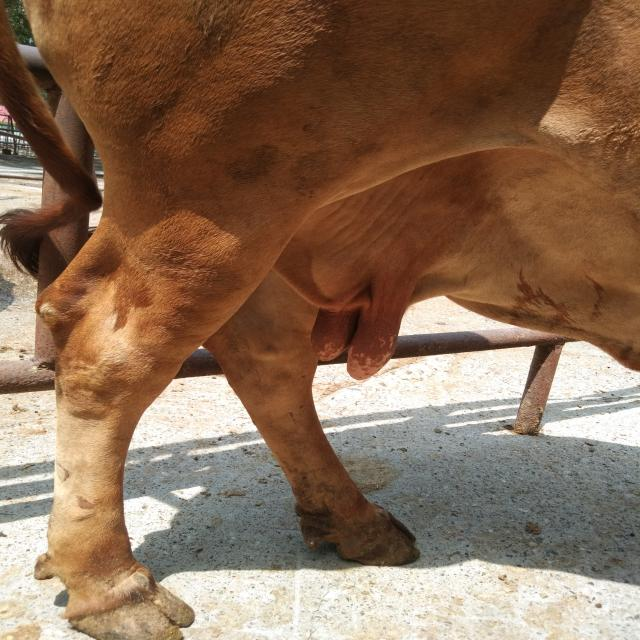Hoof: (61, 570, 195, 639), (295, 501, 421, 567)
